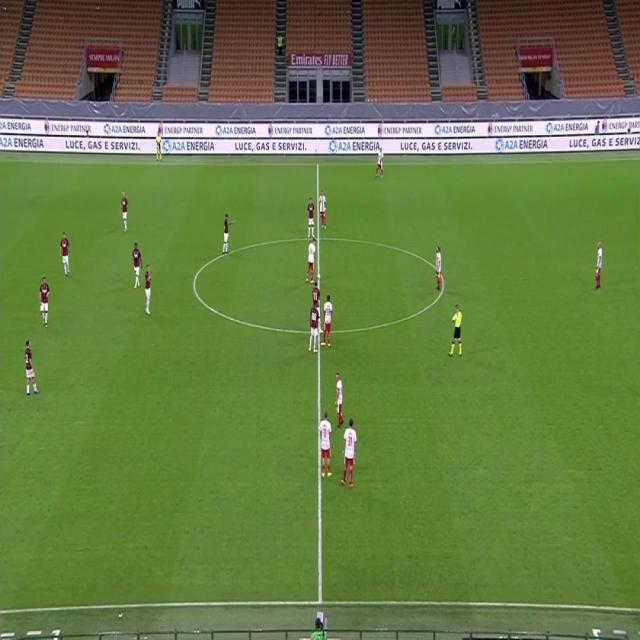ball: (317, 273, 321, 280)
player: (340, 419, 359, 489), (318, 410, 334, 483), (23, 339, 40, 398), (308, 301, 321, 355), (39, 275, 51, 330), (322, 293, 334, 346), (60, 230, 72, 278), (131, 240, 143, 288), (335, 371, 345, 428), (305, 235, 317, 282), (143, 262, 153, 317), (221, 212, 233, 256), (593, 237, 603, 287), (433, 241, 442, 291), (120, 189, 130, 233), (374, 146, 386, 181), (318, 188, 327, 230), (307, 195, 316, 234), (312, 281, 321, 315)
referee: (449, 303, 465, 358), (155, 130, 164, 162)
